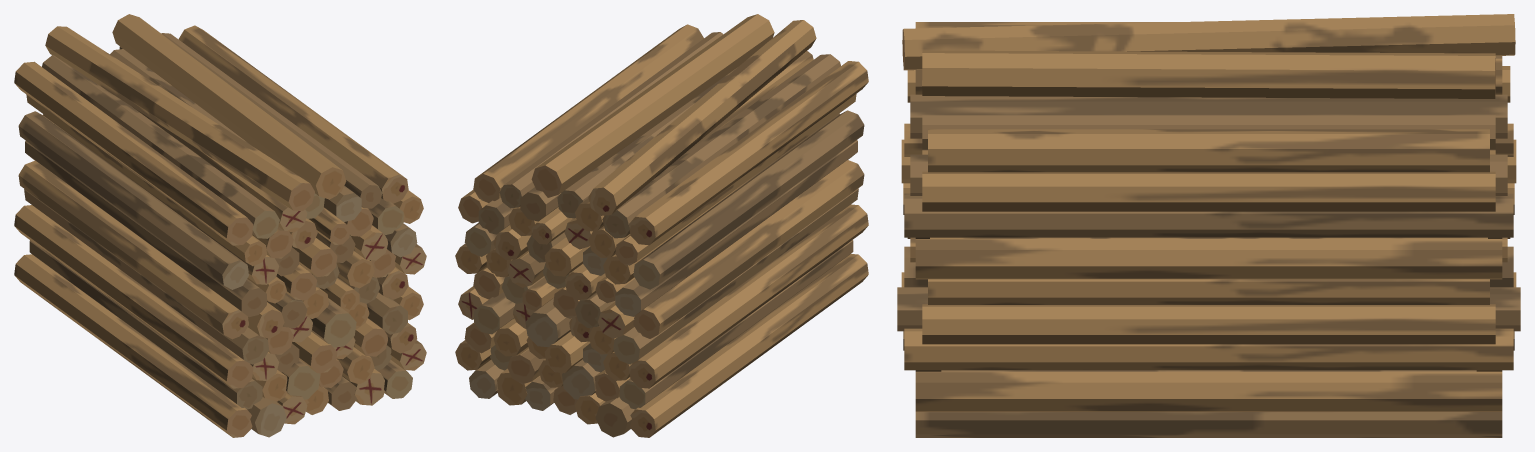
File: SM_Prop_LogPile_Large_01.fbx
The picture shows the model from 3 angles, left to right: view 1: azimuth 30°, elevation 25°; view 2: azimuth 150°, elevation 25°; view 3: azimuth 270°, elevation 25°; orthographic projection. The views are drawn at different scales.
Visible parts, largest first — view 1: SM_Prop_LogPile_Large_01; view 2: SM_Prop_LogPile_Large_01; view 3: SM_Prop_LogPile_Large_01.
Boxes of the visible parts, x1,y1,x2,y2 form: SM_Prop_LogPile_Large_01: [14, 14, 426, 437]; SM_Prop_LogPile_Large_01: [455, 14, 868, 437]; SM_Prop_LogPile_Large_01: [897, 14, 1520, 437].
Bounding box in the file's own units: 519 × 615 × 1015.
